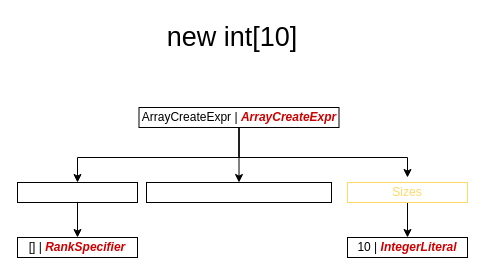
This 485x275 diagram has some shape labels left out. The shapes that lost their labels are listed below. From the top down, each one's centre as x and y in pixels, then its label:
At pixel 77 192: "int | TypeRef".
At pixel 239 192: "ArrayInitializer | ArrayInitializer".
